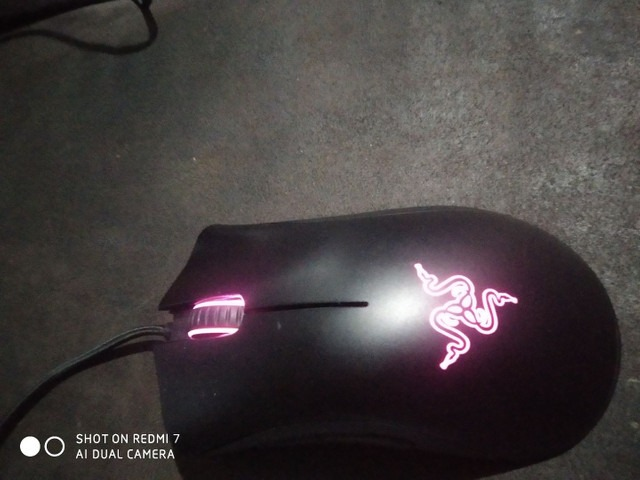mouse: (131, 207, 624, 473)
